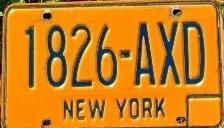1: (21, 25, 42, 91)
2: (68, 22, 95, 87)
6: (96, 24, 118, 87)
8: (46, 24, 68, 88)
A: (133, 20, 158, 87)
D: (182, 19, 208, 87)
X: (156, 20, 184, 86)
